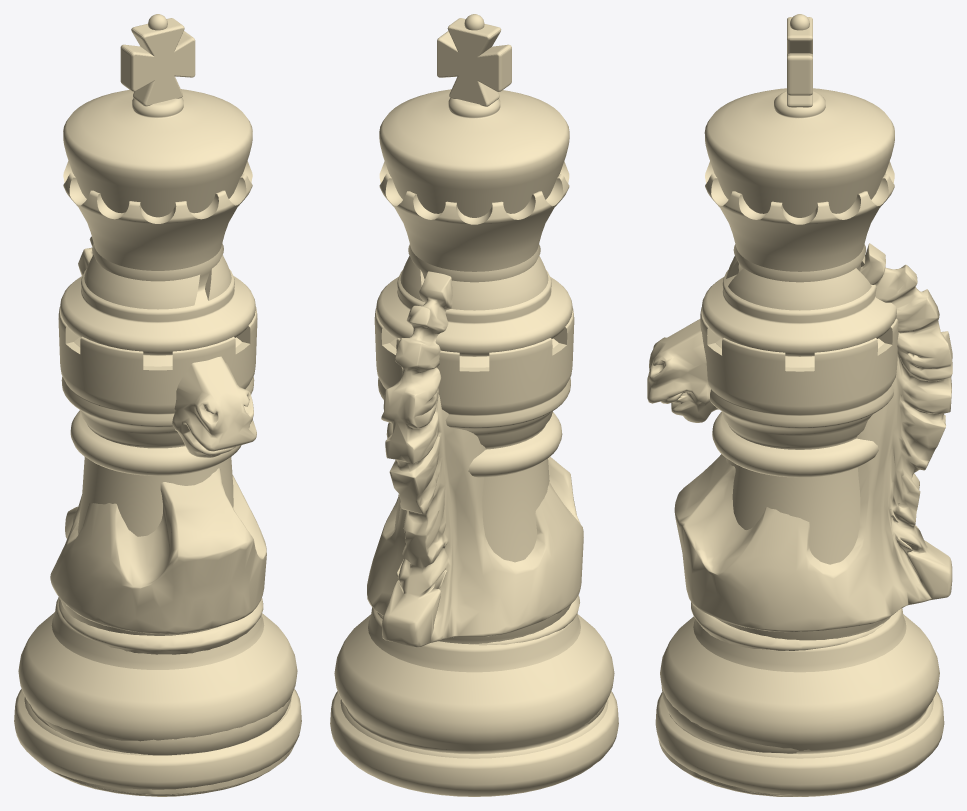
Rendered from staunton.glb.
The picture shows the model from 3 angles, left to right: view 1: azimuth 30°, elevation 25°; view 2: azimuth 150°, elevation 25°; view 3: azimuth 270°, elevation 25°; orthographic projection.
Parts seen in each view (by area): view 1: piece_king_white, piece_knight_white_01, piece_rook_white_01, piece_queen_white, piece_bishop_white_01; view 2: piece_king_white, piece_knight_white_01, piece_rook_white_01, piece_queen_white, piece_bishop_white_01; view 3: piece_king_white, piece_knight_white_01, piece_rook_white_01, piece_queen_white, piece_bishop_white_01.
Boxes of the visible parts, box(x1,y1,x2,y2) form: piece_king_white: box(14, 14, 301, 789); piece_knight_white_01: box(43, 236, 294, 796); piece_rook_white_01: box(24, 306, 291, 755); piece_queen_white: box(63, 161, 252, 366); piece_bishop_white_01: box(70, 255, 241, 475); piece_king_white: box(330, 14, 618, 796); piece_knight_white_01: box(367, 271, 606, 763); piece_rook_white_01: box(340, 308, 608, 758); piece_queen_white: box(379, 161, 569, 367); piece_bishop_white_01: box(386, 256, 562, 477); piece_king_white: box(655, 14, 944, 796); piece_knight_white_01: box(647, 243, 952, 796); piece_rook_white_01: box(669, 307, 933, 758); piece_queen_white: box(705, 161, 894, 367); piece_bishop_white_01: box(712, 255, 878, 477).
Size of the model in its own units: 0.0336 by 0.0938 by 0.0355.
